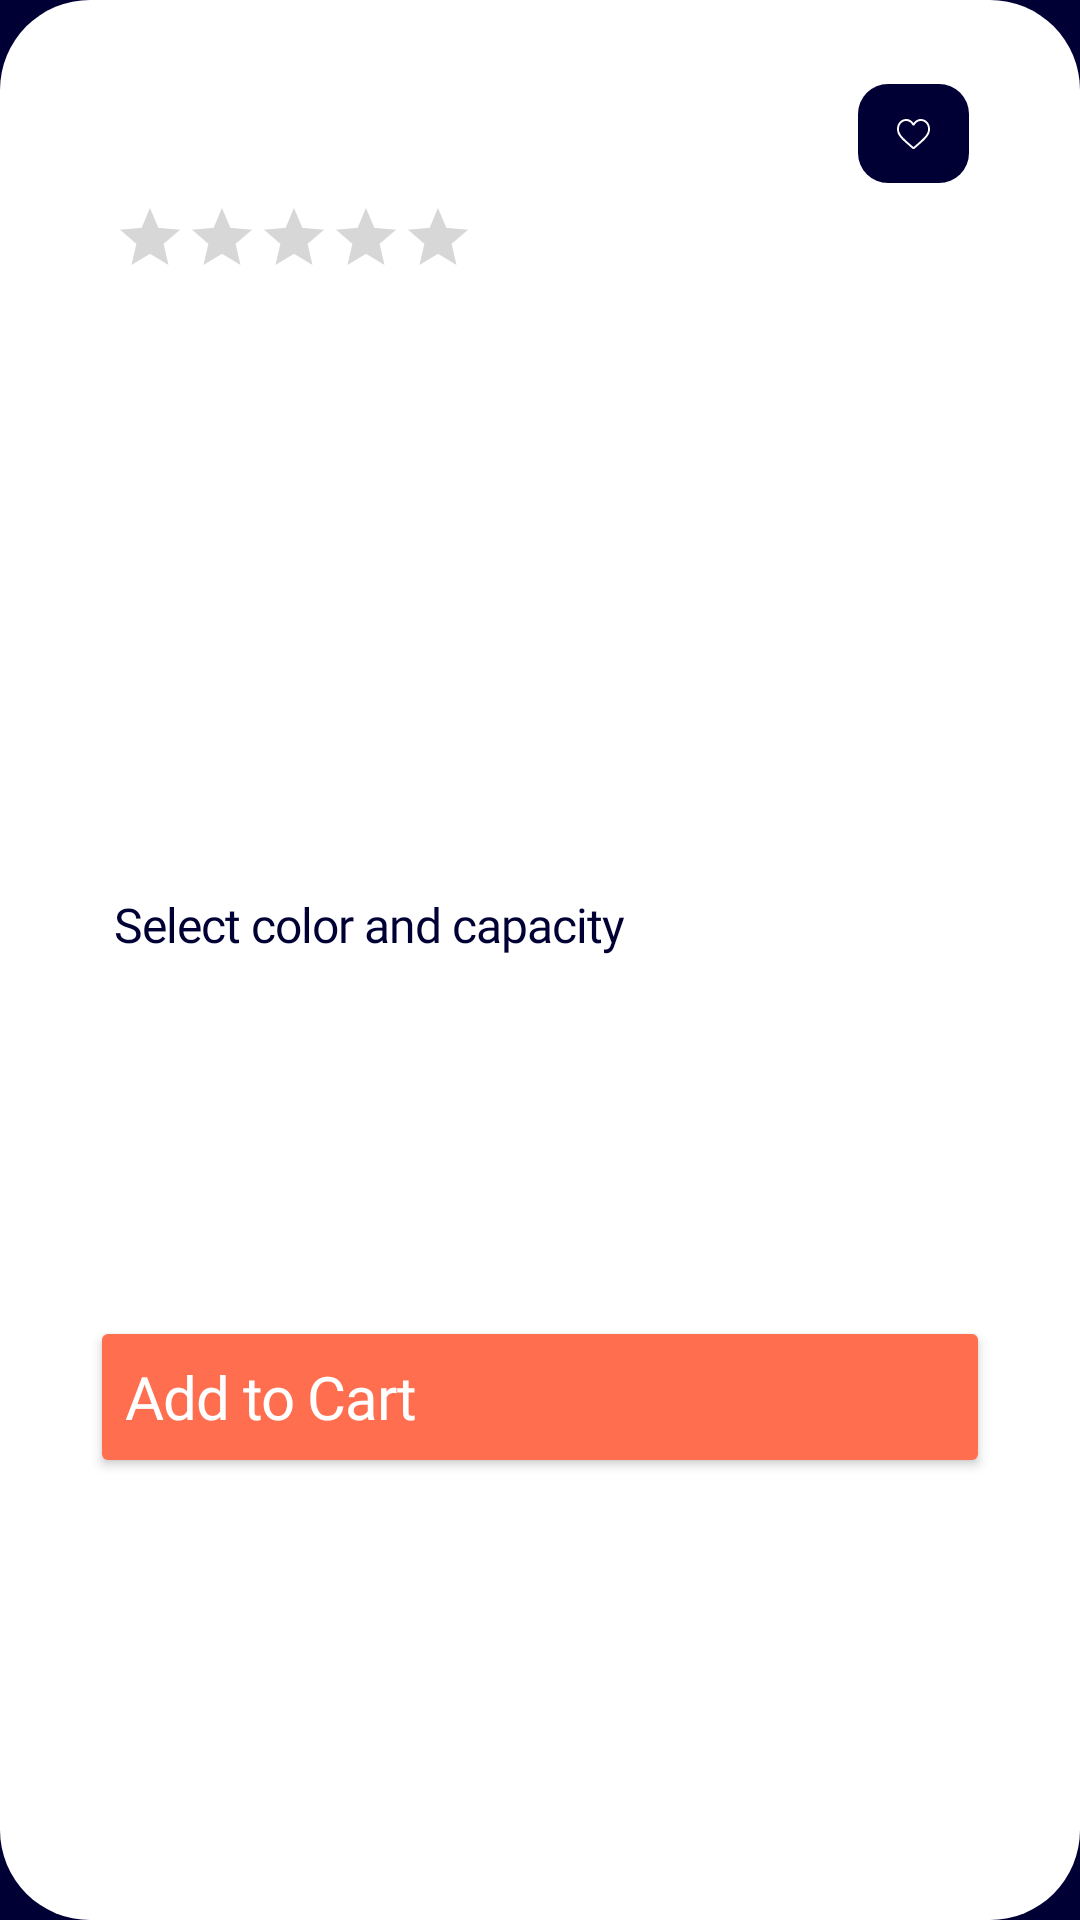

Named icons in this screenshot (1080x1920) and their bounding boxes, [x1, y1, x2, y2]:
favourite false: [858, 84, 969, 183]
